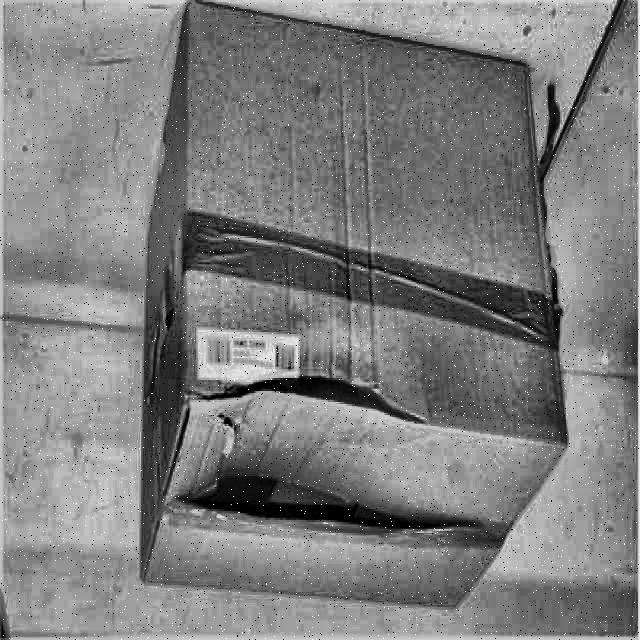box: (129, 1, 581, 621)
hole: (171, 469, 487, 534)
